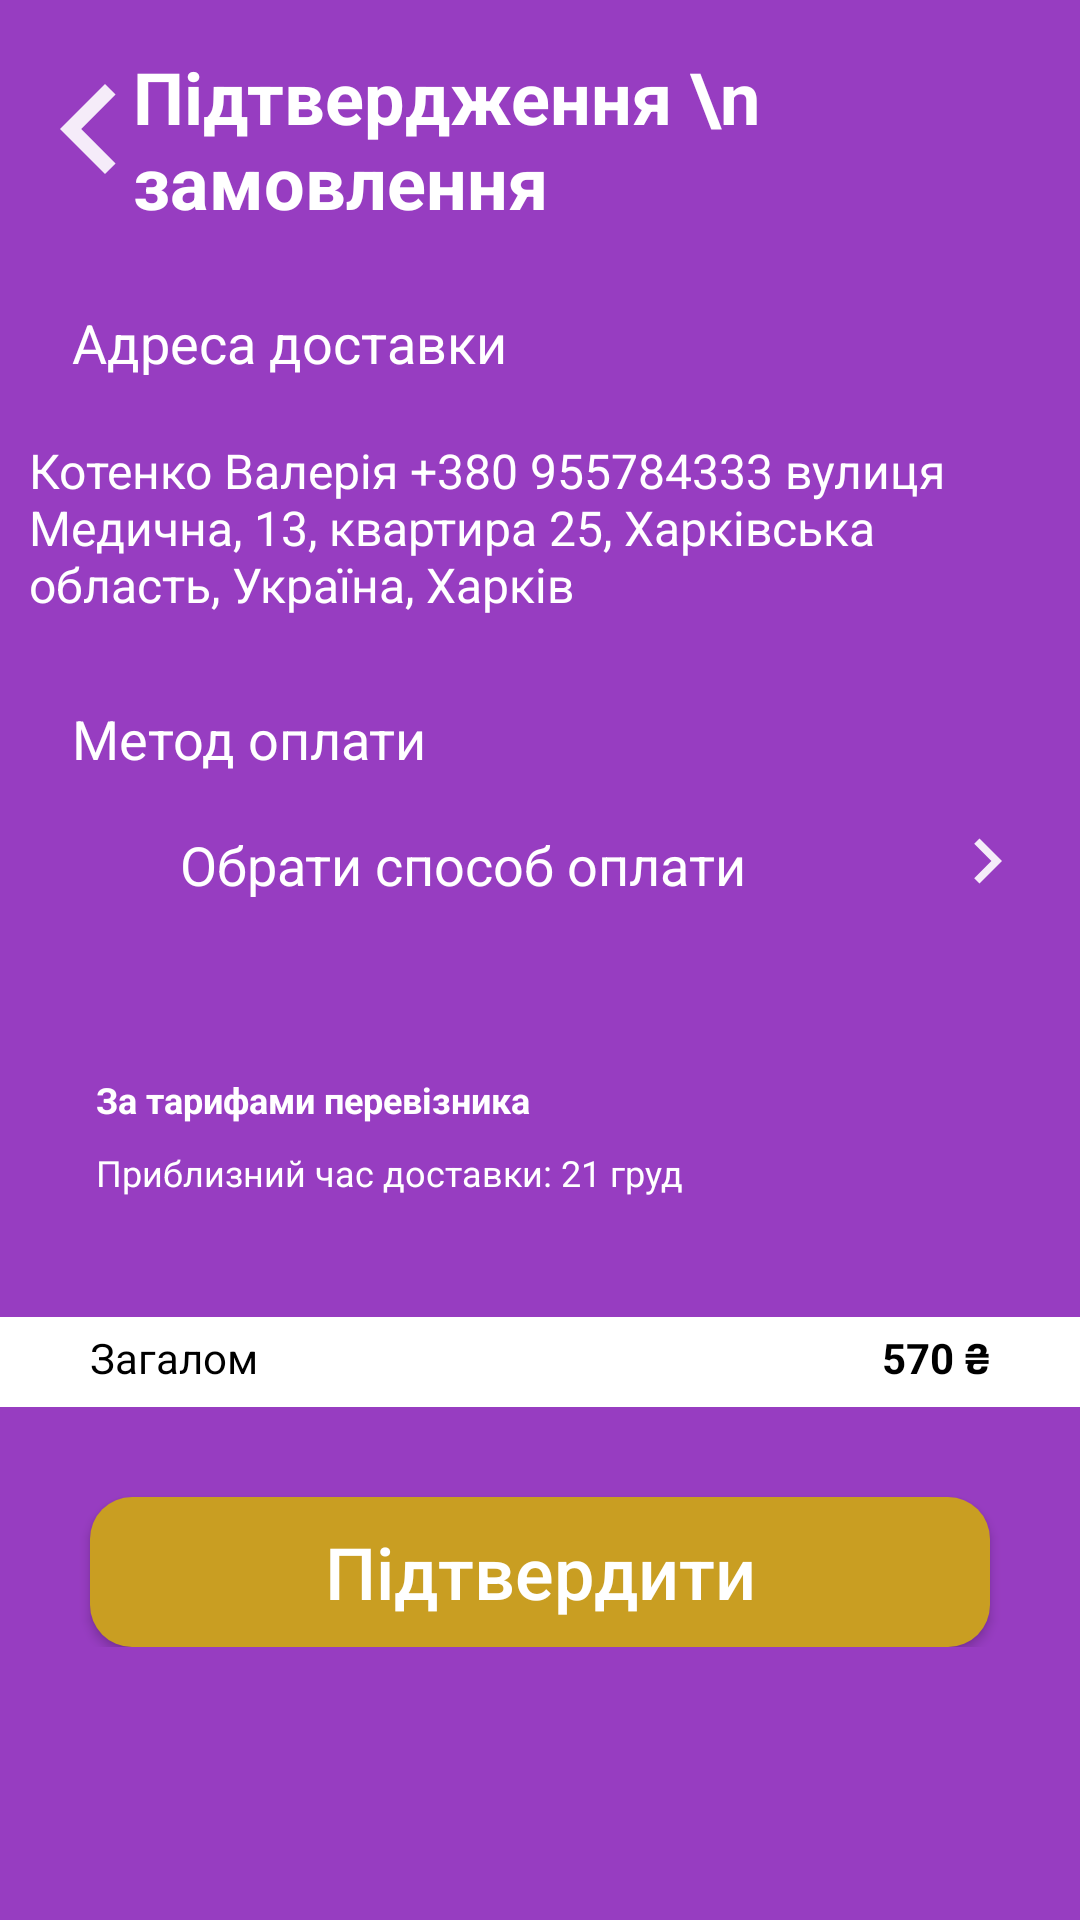

Point at icon controls on the screen. Image size 1080x1920, points as [x,y].
keyboard arrow left: [120,142]
